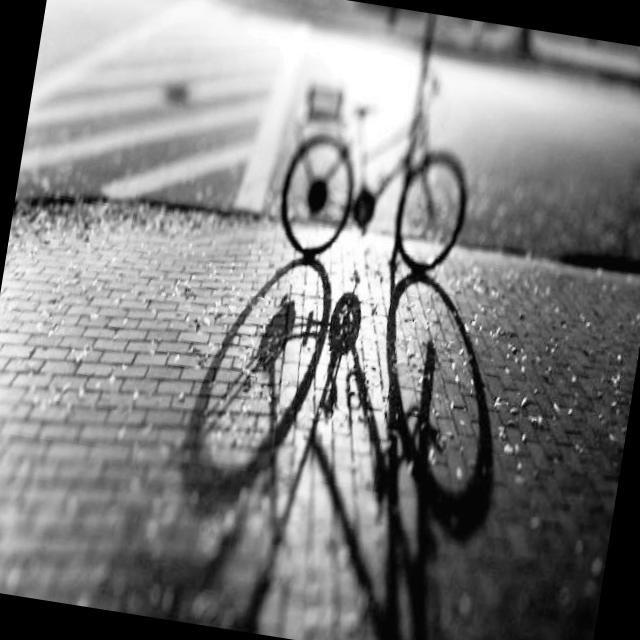Bicycle: (261, 37, 494, 296)
